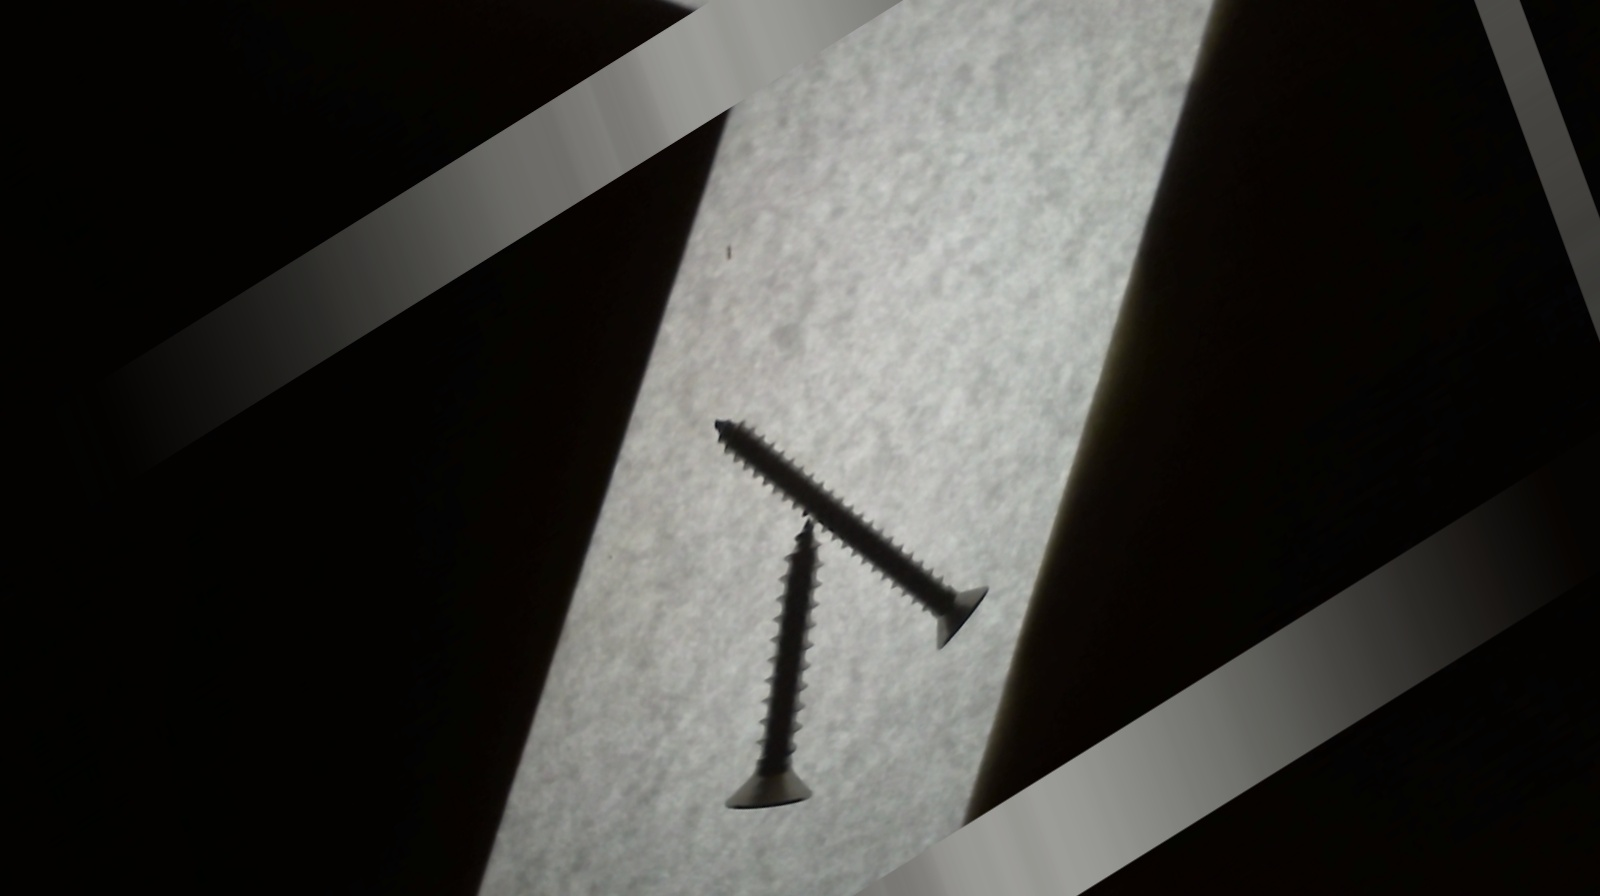S001: (652, 509, 900, 844)
S002: (708, 306, 997, 722)
